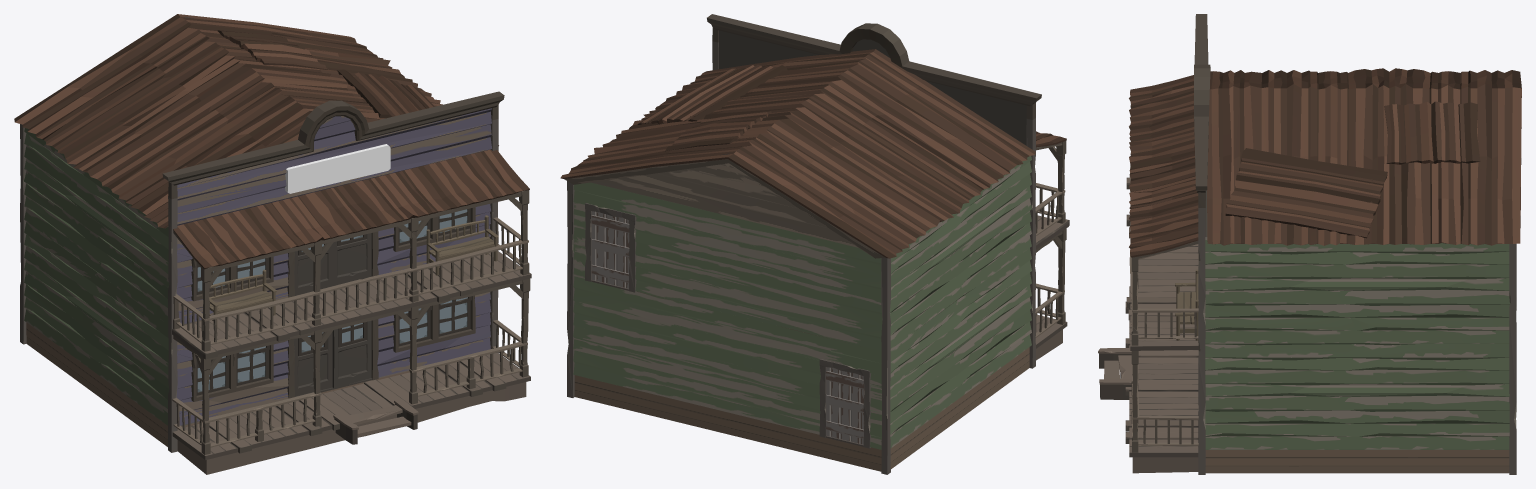
File: Jail.glb
3 renders of one model, left to right at view 1: azimuth 30°, elevation 25°; view 2: azimuth 150°, elevation 25°; view 3: azimuth 270°, elevation 25°, orthographic. The views are drawn at different scales.
Parts seen in each view (by area): view 1: SM_Bld_Double_Roof_01, Jail, SM_Bld_Double_DeckCover_01, SM_Bld_Double_Balcony_01, SM_Bld_Double_Deck_01, SM_Bld_Double_Facade_02, SM_Bld_Double_Front_01, SM_Bld_Double_Front_01__1_, SM_Bld_Sign_18, SM_Bld_Roof_Patch_01, SM_Bld_Double_FrontDoor_01_1, SM_Bld_Double_Front_Window_01_1 (+8 smaller); view 2: Jail, SM_Bld_Double_Roof_01, SM_Bld_Double_Facade_02, SM_Bld_Roof_Patch_01, SM_Bld_Large_BackDoor_02, SM_Bld_Large_BackDoor_01, SM_Bld_Double_Balcony_01, SM_Bld_Roof_Patch_01__1_, SM_Bld_Double_Deck_01, SM_Bld_Double_DeckCover_01; view 3: Jail, SM_Bld_Double_Roof_01, SM_Bld_Double_DeckCover_01, SM_Bld_Roof_Patch_01, SM_Bld_Double_Deck_01, SM_Bld_Double_Balcony_01, SM_Bld_Roof_Patch_01__1_, SM_Bld_Double_Facade_02, SM_Bld_DeckSteps_01, SM_Prop_Bench_01.
Part boxes in pixels (box(x1,y1,x2,y2)): SM_Bld_Double_Roof_01: box(14, 14, 498, 228); Jail: box(20, 119, 498, 452); SM_Bld_Double_DeckCover_01: box(173, 149, 529, 319); SM_Bld_Double_Balcony_01: box(172, 217, 531, 421); SM_Bld_Double_Deck_01: box(172, 320, 530, 474); SM_Bld_Double_Facade_02: box(162, 91, 504, 225); SM_Bld_Double_Front_01: box(176, 292, 491, 425); SM_Bld_Double_Front_01__1_: box(176, 204, 490, 323); SM_Bld_Sign_18: box(285, 144, 390, 193); SM_Bld_Roof_Patch_01: box(337, 69, 434, 118); SM_Bld_Double_FrontDoor_01_1: box(332, 320, 371, 388); SM_Bld_Double_Front_Window_01_1: box(197, 297, 467, 392); Jail: box(567, 41, 1035, 474); SM_Bld_Double_Roof_01: box(560, 49, 1035, 258); SM_Bld_Double_Facade_02: box(707, 14, 1041, 145); SM_Bld_Roof_Patch_01: box(637, 64, 787, 124); SM_Bld_Large_BackDoor_02: box(826, 367, 864, 444); SM_Bld_Large_BackDoor_01: box(591, 211, 629, 288); SM_Bld_Double_Balcony_01: box(1035, 183, 1069, 291); SM_Bld_Roof_Patch_01__1_: box(665, 111, 771, 151); SM_Bld_Double_Deck_01: box(1035, 283, 1067, 360); SM_Bld_Double_DeckCover_01: box(1036, 131, 1066, 191); Jail: box(1198, 208, 1516, 474); SM_Bld_Double_Roof_01: box(1207, 68, 1521, 245); SM_Bld_Double_DeckCover_01: box(1129, 75, 1198, 310); SM_Bld_Roof_Patch_01: box(1225, 148, 1387, 238); SM_Bld_Double_Deck_01: box(1125, 286, 1198, 473); SM_Bld_Double_Balcony_01: box(1126, 166, 1198, 417); SM_Bld_Roof_Patch_01__1_: box(1384, 101, 1480, 164); SM_Bld_Double_Facade_02: box(1194, 14, 1210, 207); SM_Bld_DeckSteps_01: box(1098, 348, 1132, 399); SM_Prop_Bench_01: box(1175, 269, 1198, 340).
Size of the model in its own units: 10.77 by 9.18 by 10.91.
Materials: 9 (7 with a texture image).
